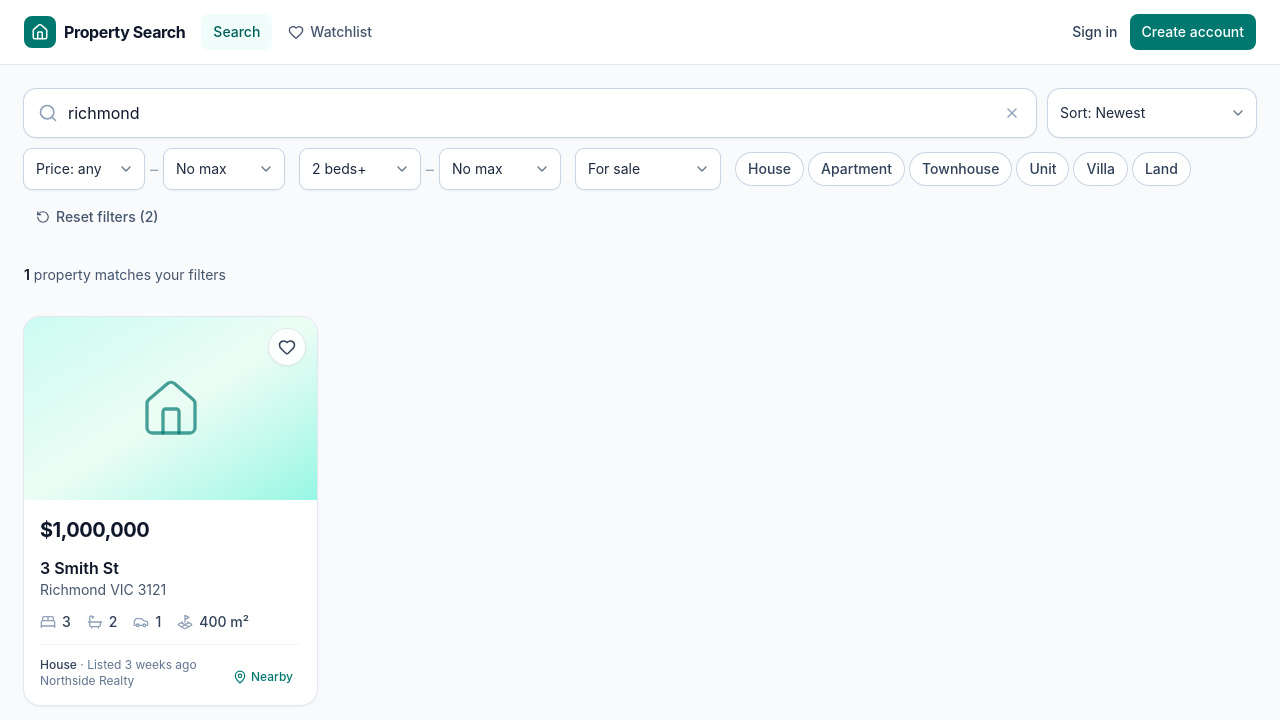
Test case: SearchPage › sends URL filters to the API and keeps the URL in sync with filter changes
The width and height of the screenshot is (1280, 720).
Check: the element named "3 Smith St, Richmond VIC 3121" is shown, box [24,317,317,705]
Click the button "Townhouse" at (961, 169), box [910,153,1011,185]
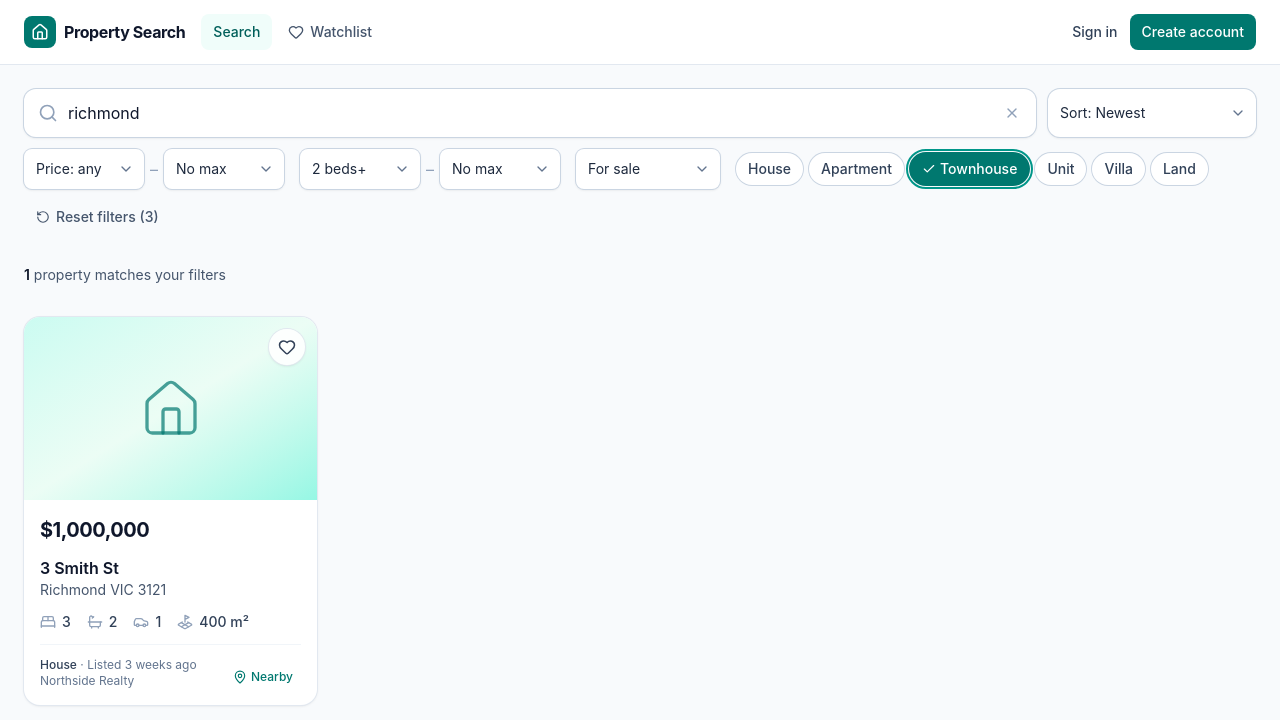
Select "$900k" in the 3rd dropdown named "Maximum price" at (224, 169), box [164,149,284,189]
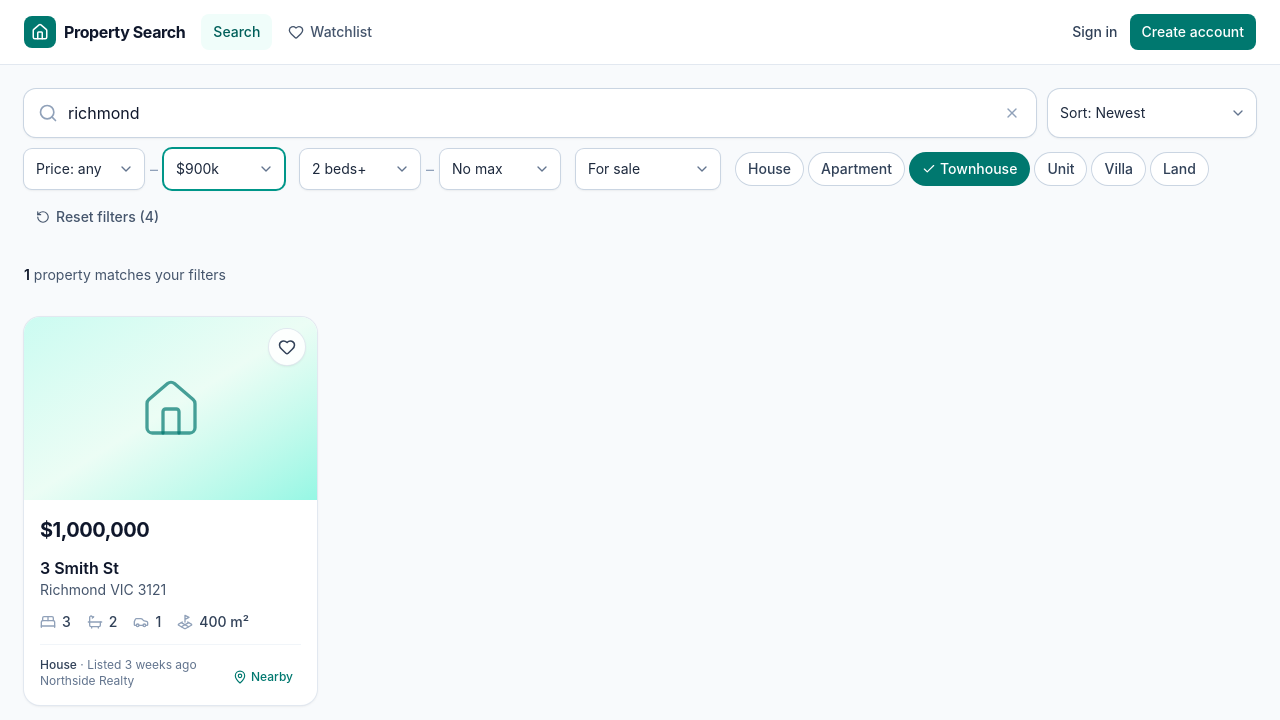
Check: the button "Townhouse" is pressed, box [910,153,1029,185]
